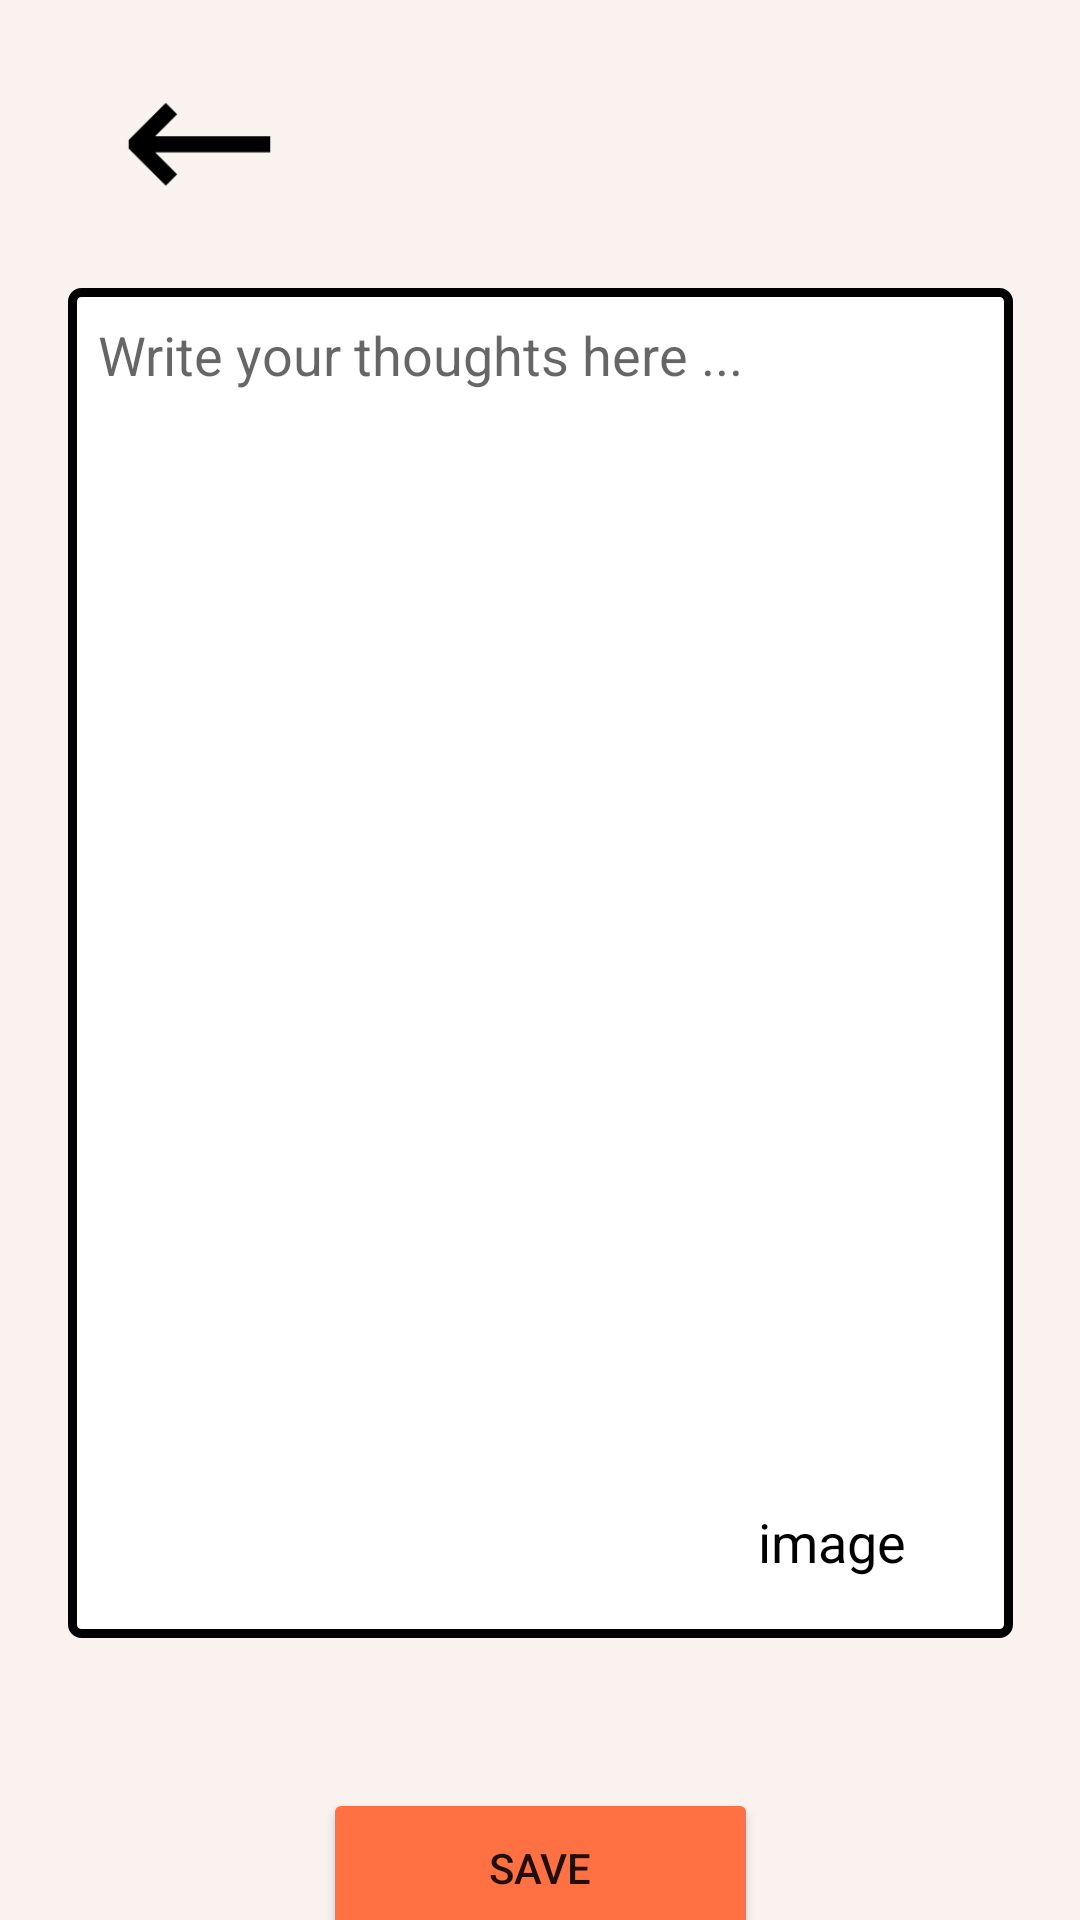

Icons on this 1080*1920 Android screen, each with the point to tap as (x=x, y=y):
back: (x=199, y=144)
